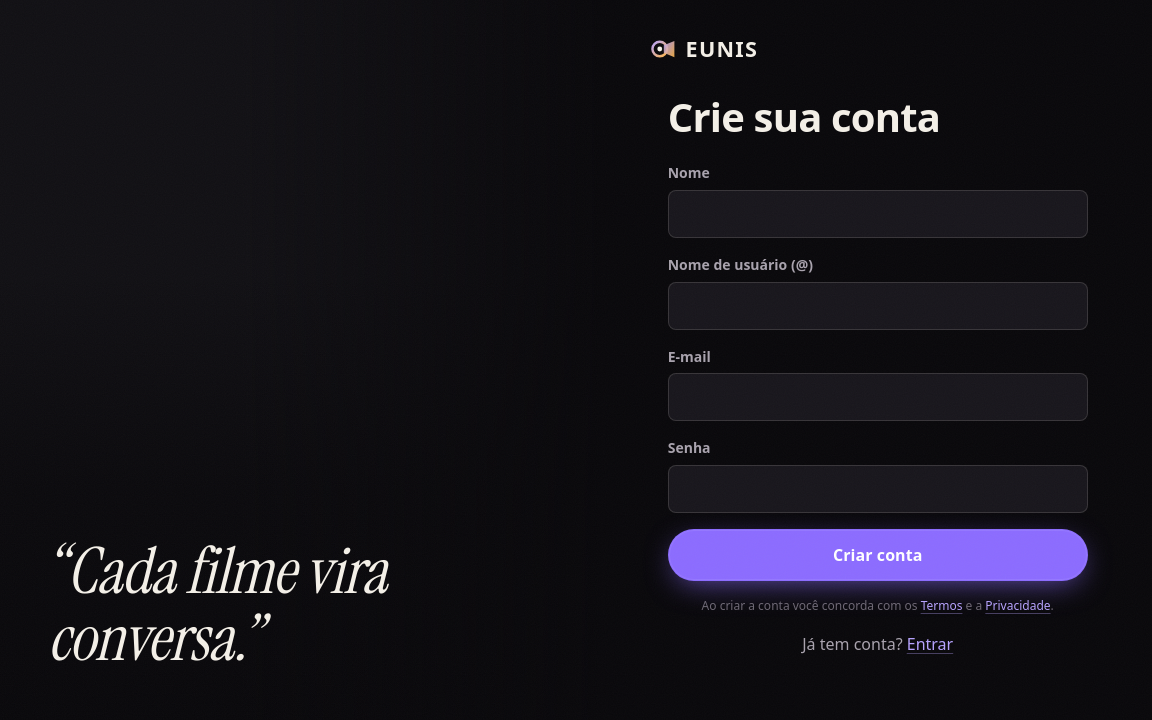
Scenario: Cadastro › mostra o erro do servidor (e-mail duplicado)
Type "Ana" into the field labelled "Nome" at (878, 214), box [668,190,1088,238]
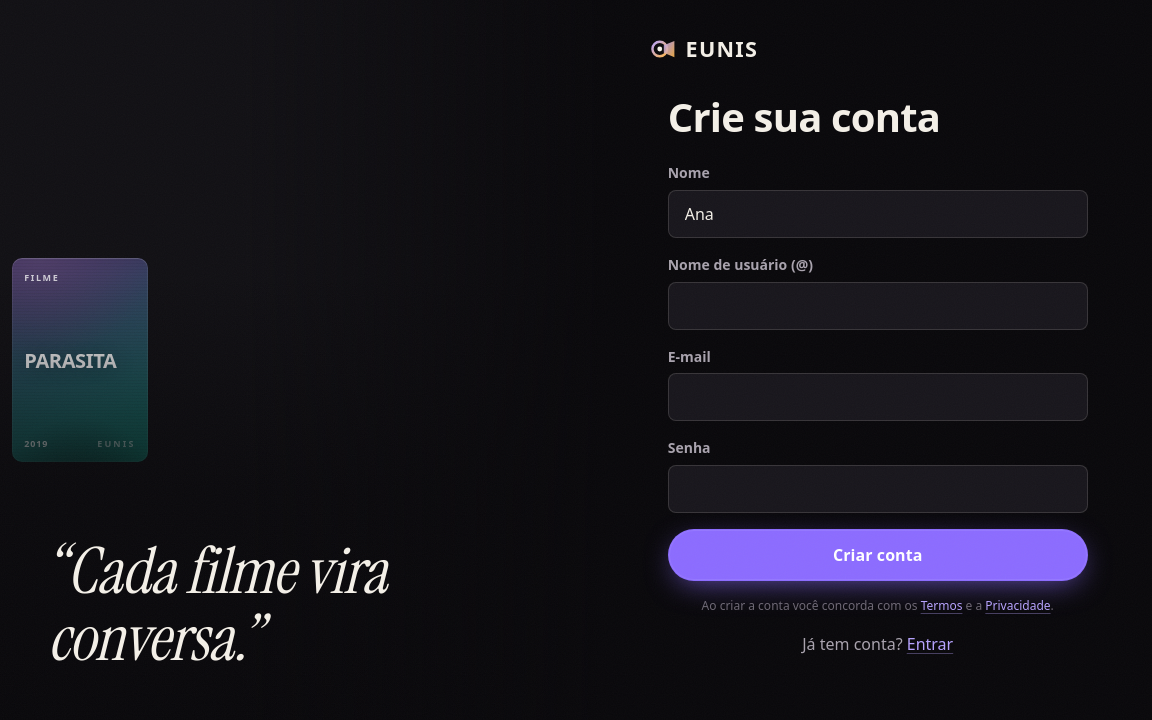
Type "ana" into the field labelled "Nome de usuário (@)" at (878, 306), box [668,282,1088,330]
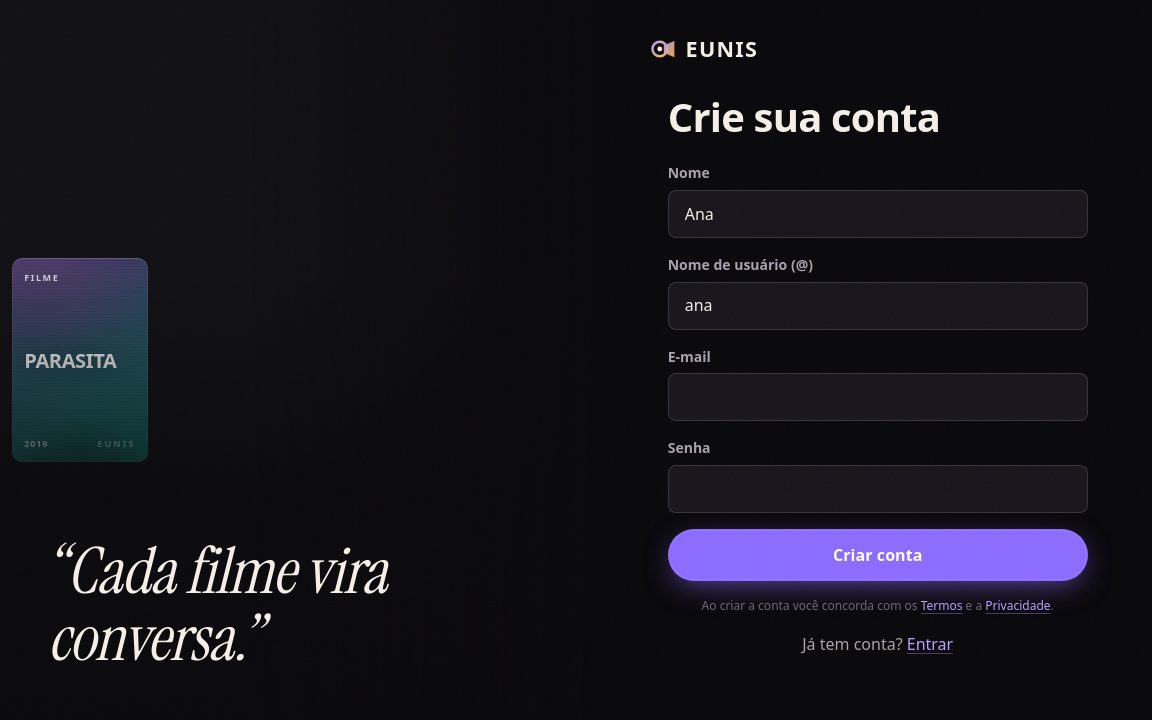
Type "ana@test.dev" into the field labelled "E-mail" at (878, 397), box [668,373,1088,421]
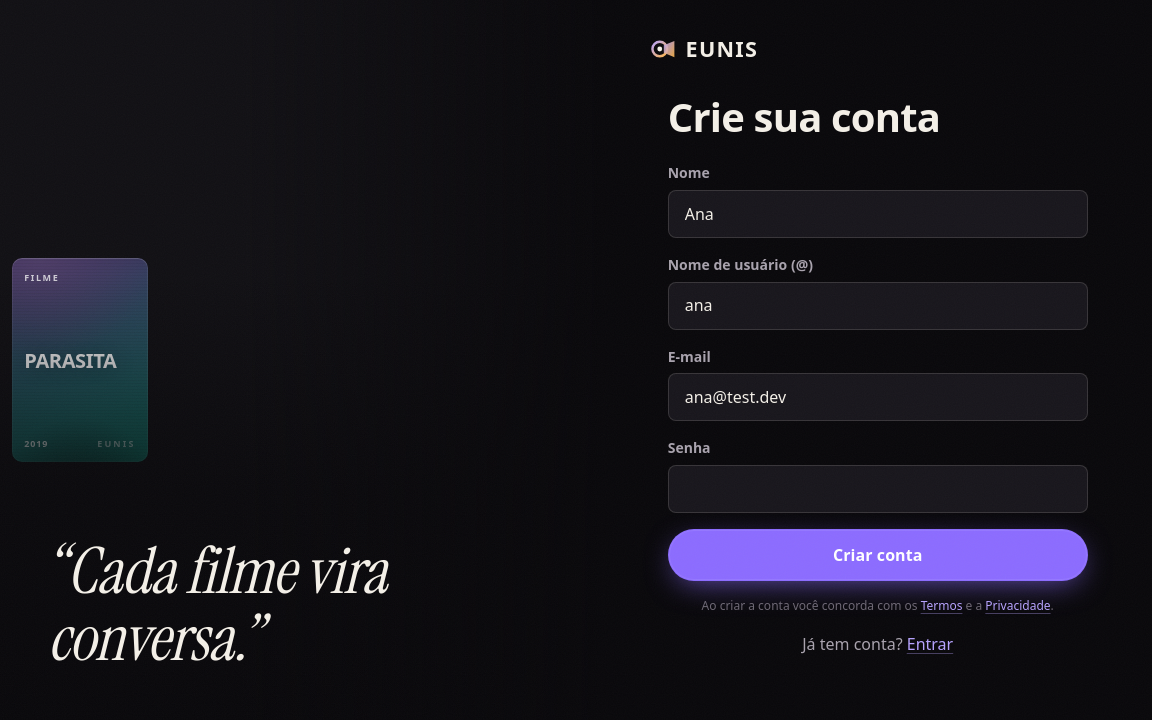
Type "senha1234" into the password field labelled "Senha" at (878, 489), box [668,465,1088,513]
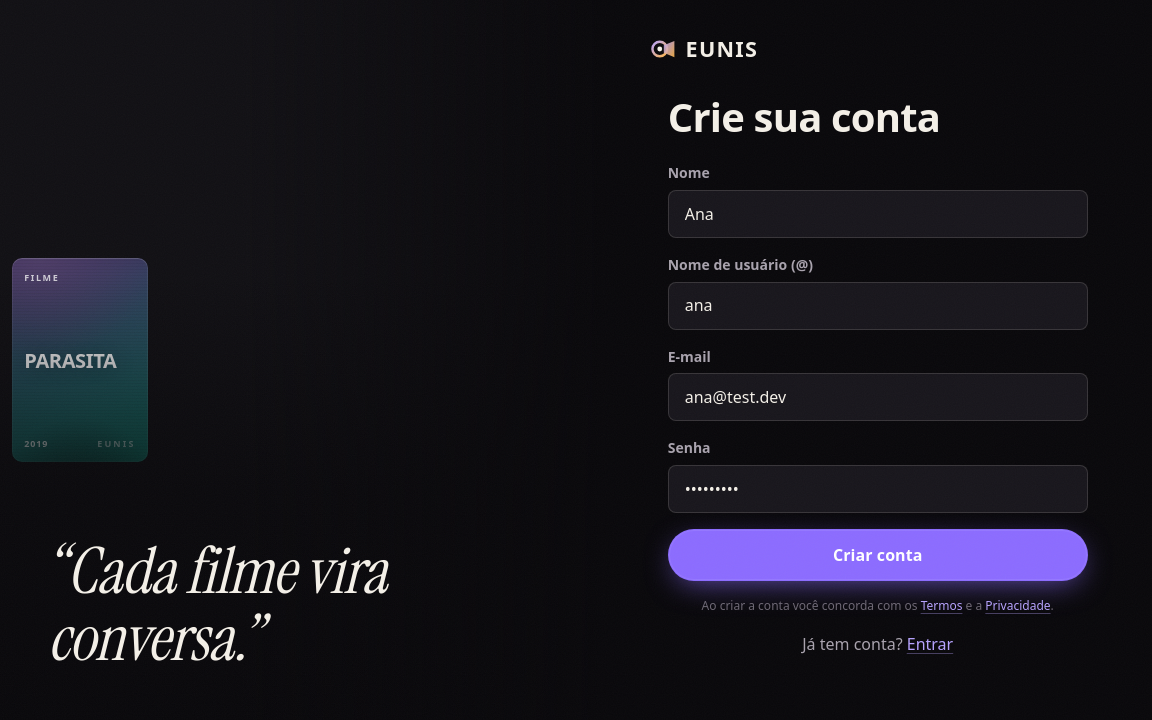
Click the button "Criar conta" at (878, 555), box [668,529,1088,581]
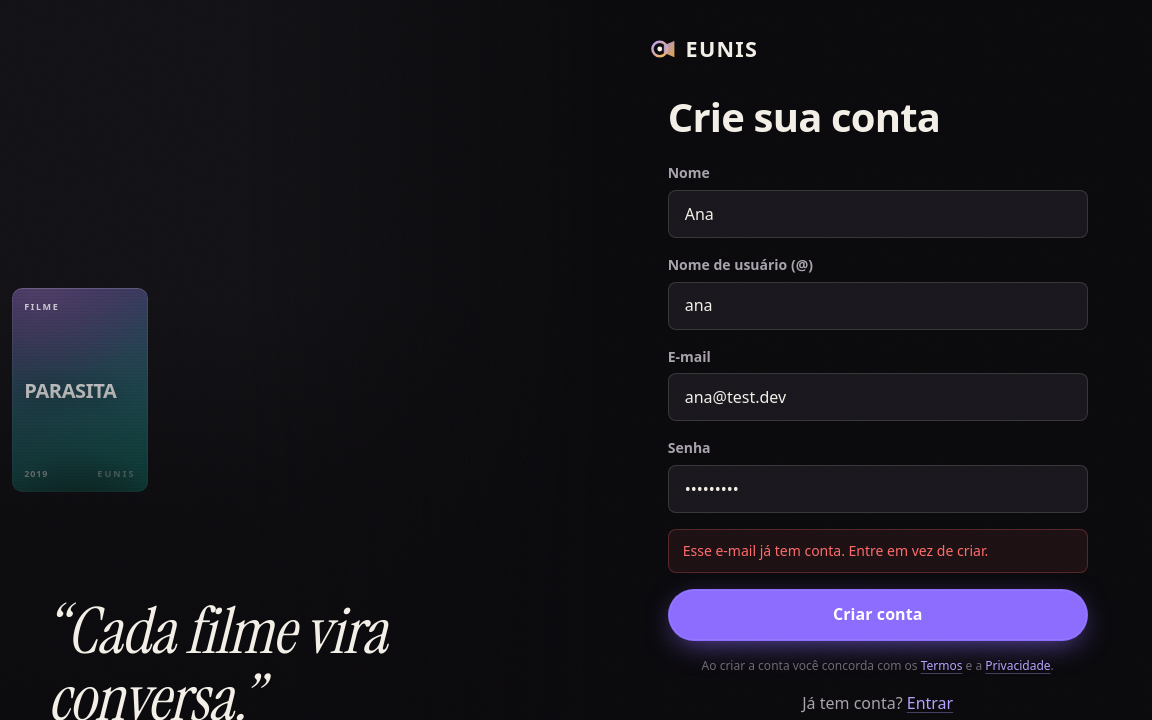
Now the message shows "Esse e-mail já tem conta", box [683,541,988,560]
